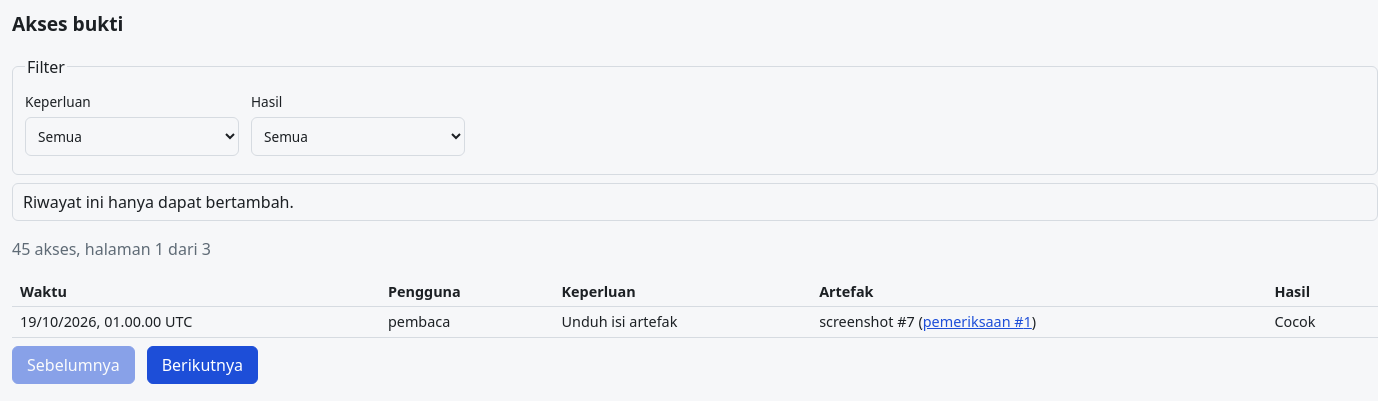
Scenario: EvidenceAccessPanel › filter hasil diteruskan ke server dan halaman kembali ke 1
The image size is (1378, 401).
Expected: the text "45 akses, halaman 1 dari 3" is shown, [12,238,211,260]
Click the button "Berikutnya": click(202, 365) [147,346,258,384]
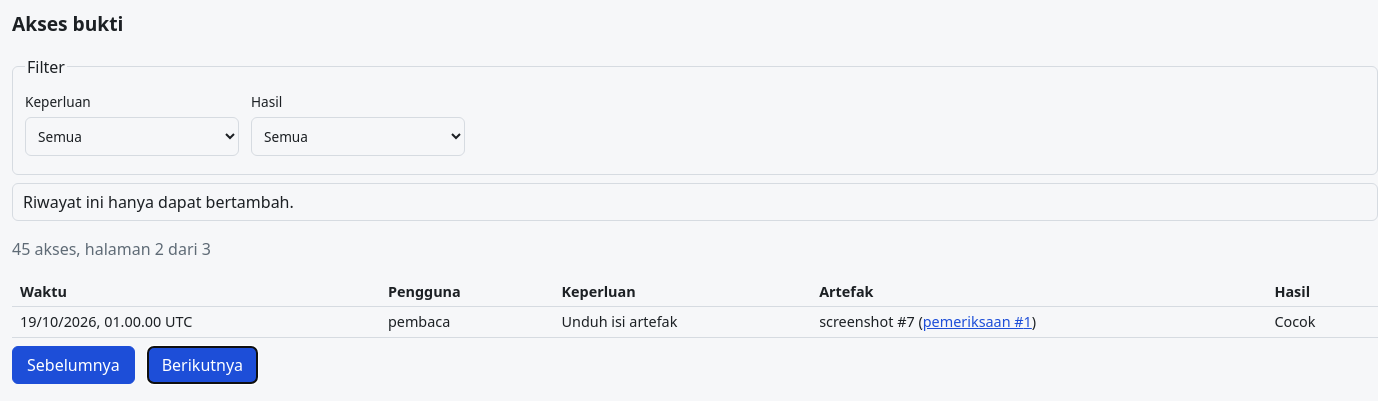
Now the text "45 akses, halaman 2 dari 3" is shown, box [12,238,211,260]
Select "Berbeda dari saat disimpan" in the dropdown named "Filter hasil": (358, 136) [251,117,465,156]
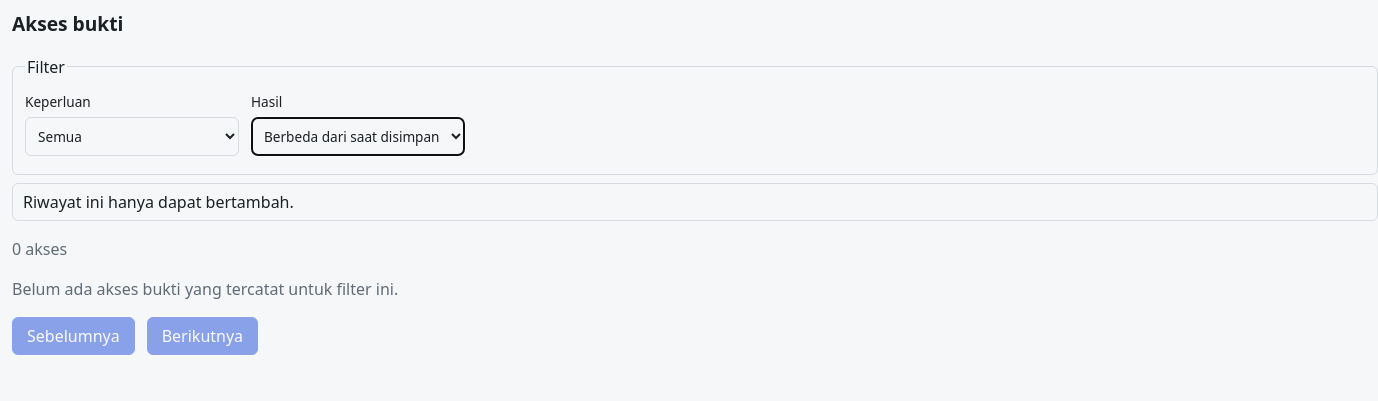
Now the text "Belum ada akses bukti yang tercatat untuk filter ini." is shown, box [12,278,398,300]
